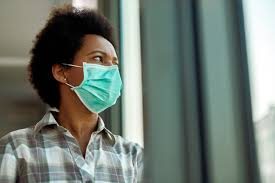with-mask: (40, 15, 129, 120)
